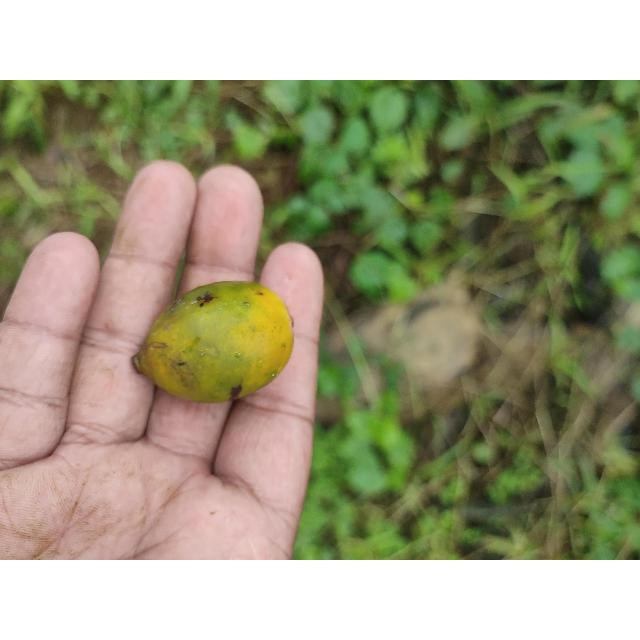good: (132, 282, 294, 405)
